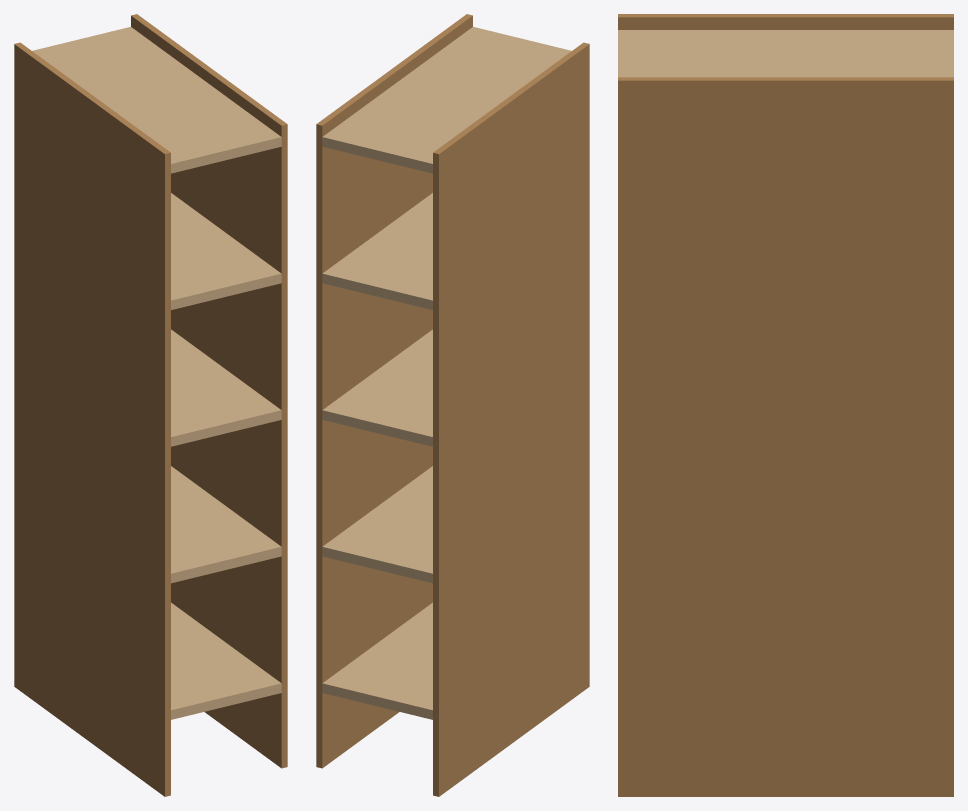
3 views of the same model, side by side, from view 1: azimuth 30°, elevation 25°; view 2: azimuth 150°, elevation 25°; view 3: azimuth 270°, elevation 25° (orthographic). The views are drawn at different scales.
Parts seen in each view (by area): view 1: estante_file_a; view 2: estante_file_a; view 3: estante_file_a.
Part boxes in pixels (x1,y1,x2,y2): estante_file_a: (14,14,287,796); estante_file_a: (316,14,589,796); estante_file_a: (618,14,953,796).
Bounding box in the file's own units: 0.4 × 0.85 × 2.
